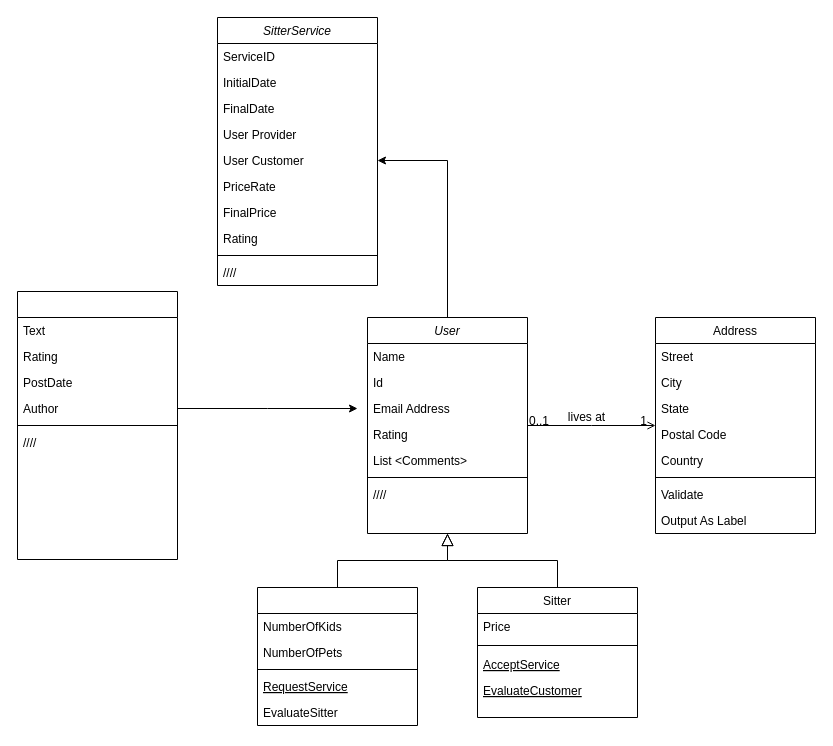
This 833x746 diagram has some shape labels left out. Here are the shapes that lost their labels. From the top down, the box of each, then its label:
(16, 290, 178, 560): Comment
(256, 586, 418, 726): Customer
